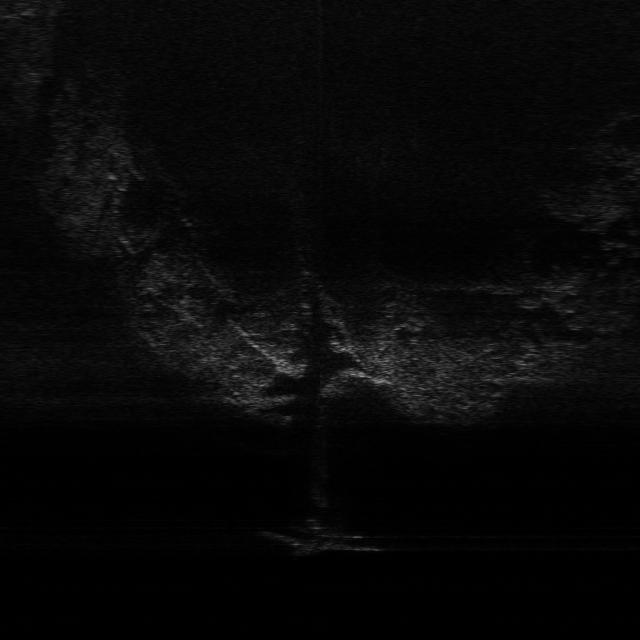plane: (260, 519, 390, 558)
